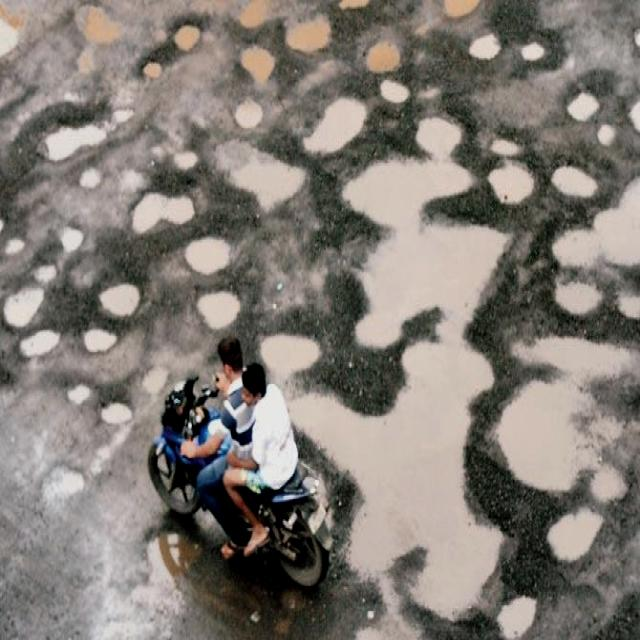Pothole: (191, 73, 640, 324)
